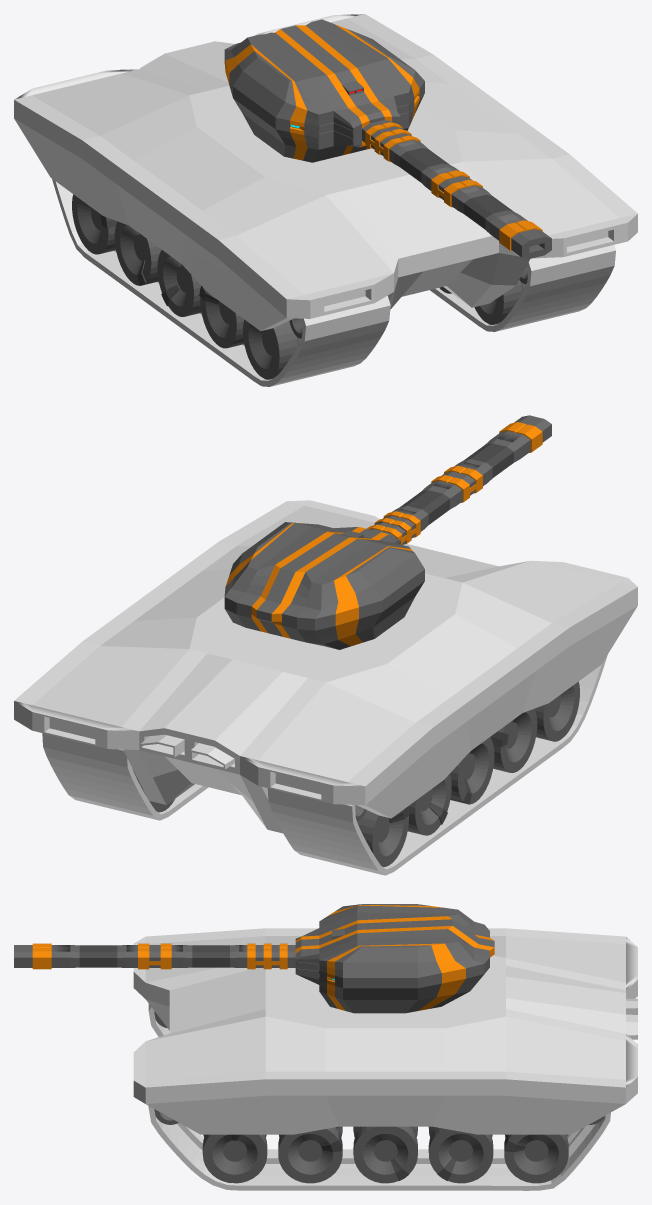
File: TankV2.fbx
The picture shows the model from 3 angles, top to bottom: view 1: azimuth 30°, elevation 25°; view 2: azimuth 150°, elevation 25°; view 3: azimuth 270°, elevation 25°; orthographic projection. The views are drawn at different scales.
Parts seen in each view (by area): view 1: HullV2, Turret, TrackRight, TrackLeft, Wheel1R, Wheel4R, Wheel3R, Wheel5R, Wheel2R, Wheel1L; view 2: HullV2, Turret, TrackRight, TrackLeft, Wheel2R, Wheel3R, Wheel5R, Wheel1R, Wheel4R; view 3: HullV2, Turret, TrackLeft, Wheel3L, Wheel4L, Wheel2L, Wheel1L, Wheel5L.
Boxes of the visible parts, x1,y1,x2,y2 form: HullV2: (14,14,637,331); Turret: (224,19,551,258); TrackRight: (52,179,390,386); TrackLeft: (430,245,615,331); Wheel1R: (243,319,300,379); Wheel4R: (114,221,161,285); Wheel3R: (157,250,201,316); Wheel5R: (72,194,117,254); Wheel2R: (199,286,244,348); Wheel1L: (474,280,526,324); HullV2: (14,500,637,833); Turret: (224,415,551,649); TrackRight: (267,655,607,875); TrackLeft: (42,733,208,820); Wheel2R: (490,708,537,772); Wheel3R: (450,737,494,804); Wheel5R: (357,806,409,866); Wheel1R: (535,681,579,741); Wheel4R: (407,774,451,835); HullV2: (133,928,637,1134); Turret: (14,904,494,1013); TrackLeft: (148,1106,610,1190); Wheel3L: (353,1126,417,1183); Wheel4L: (428,1126,493,1183); Wheel2L: (278,1126,342,1183); Wheel1L: (202,1134,267,1183); Wheel5L: (504,1134,568,1183).
Bounding box in the file's own units: 3320 × 2065 × 5798.
